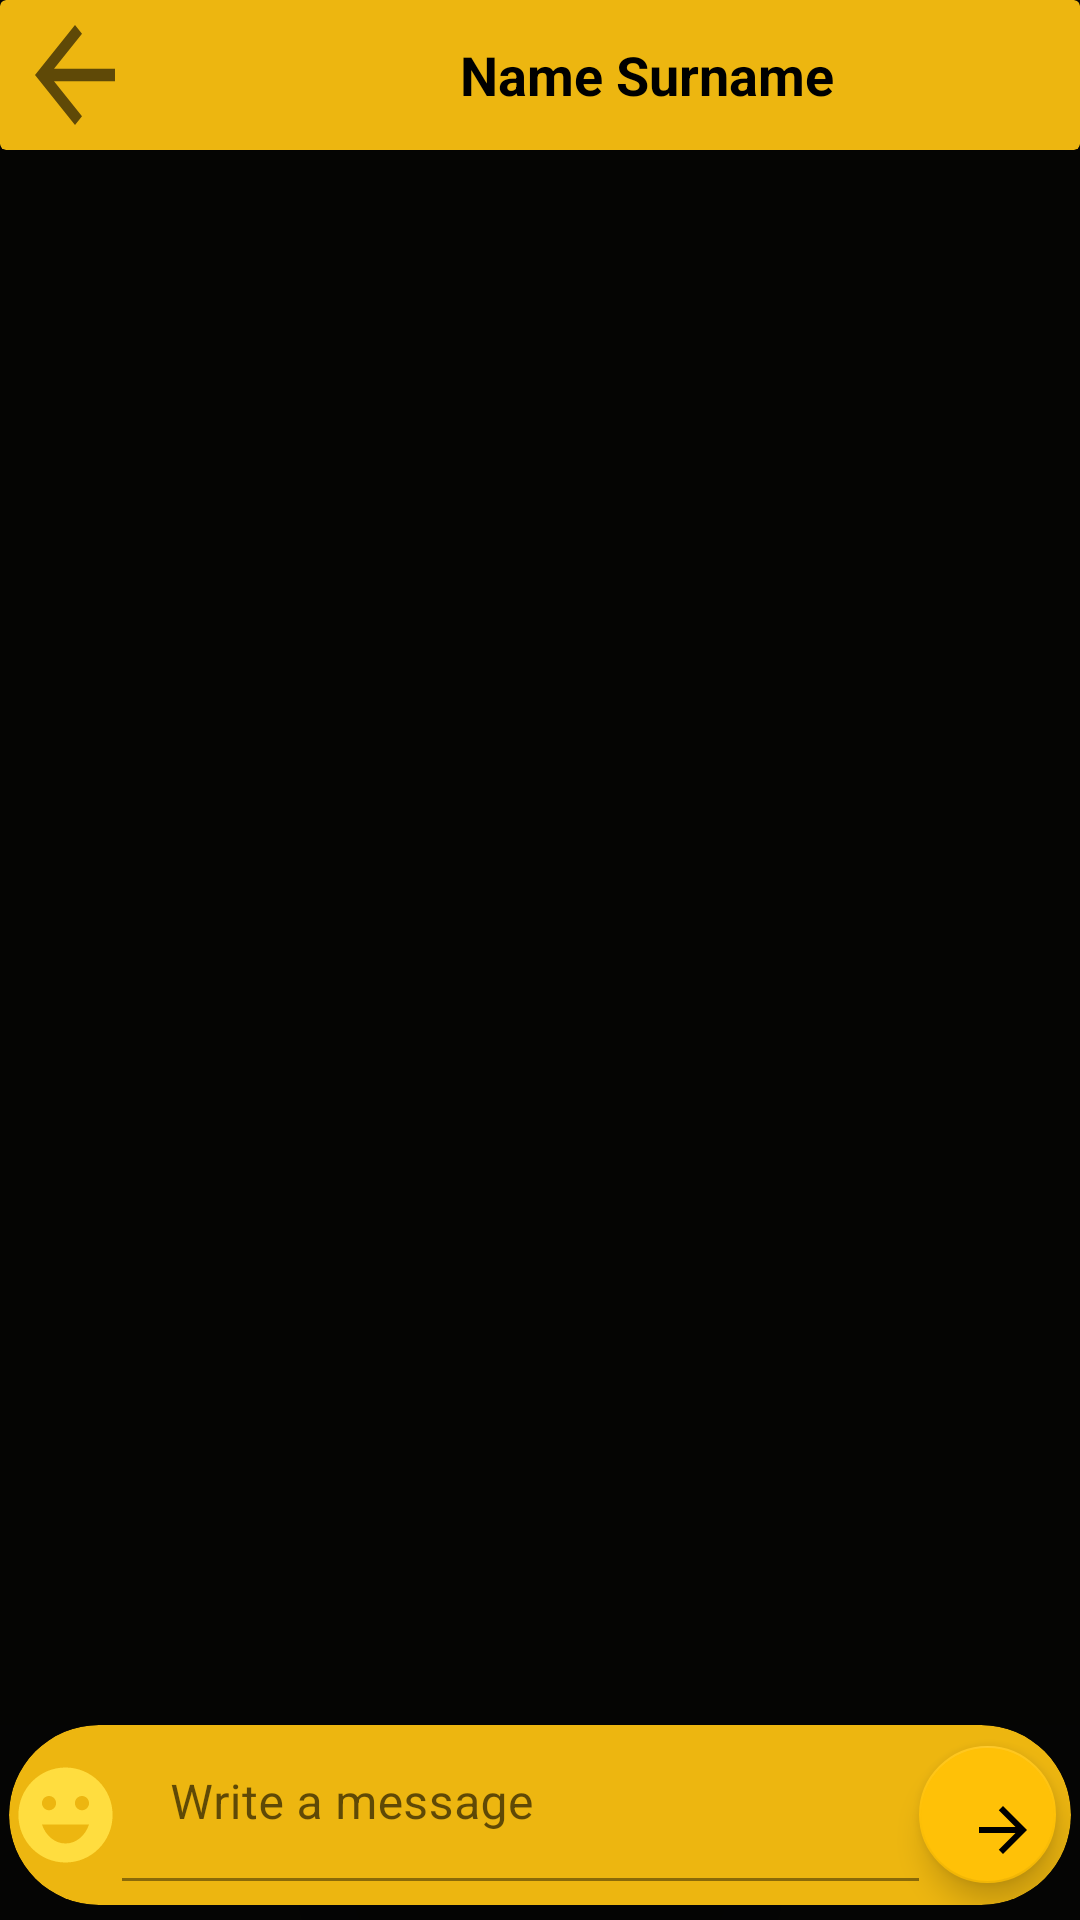

Icons on this 1080 x 1920 Android screen, each with its box as [x1=x1, y1=y1, x2=x2, y2=y2]:
emoji emotions: [x1=19, y1=1768, x2=112, y2=1862]
